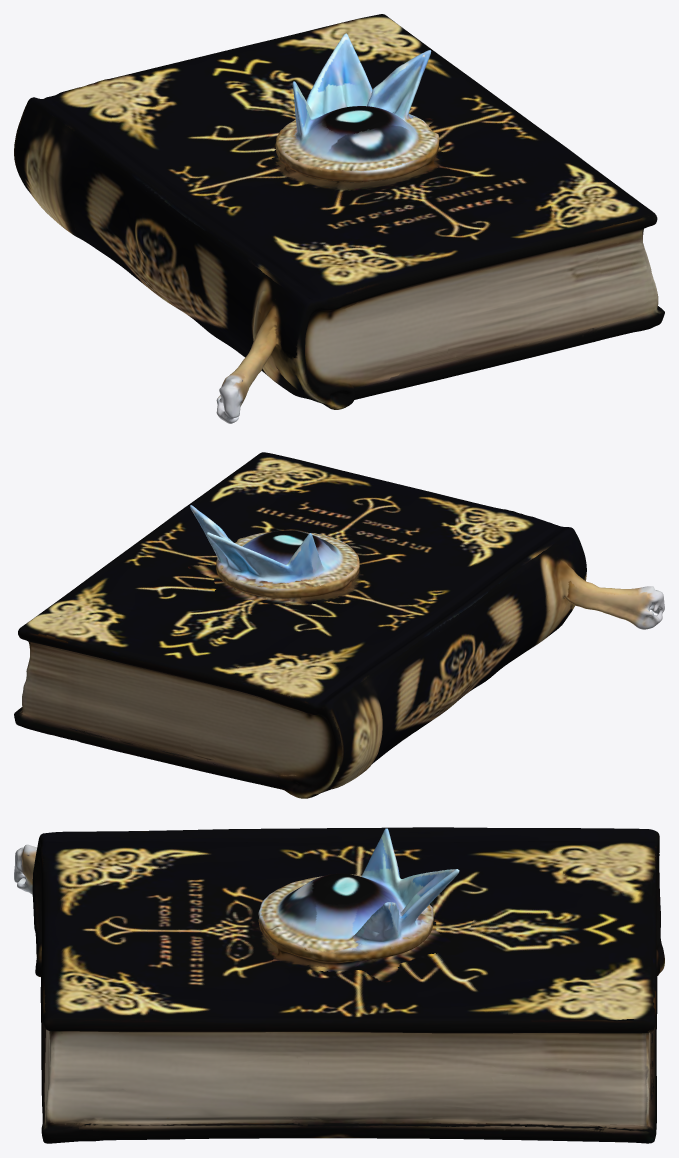
File: goodcase0303_87.glb
3 views of the same model, one above another, from view 1: azimuth 30°, elevation 25°; view 2: azimuth 150°, elevation 25°; view 3: azimuth 270°, elevation 25° (orthographic). The views are drawn at different scales.
Visible parts, largest first — view 1: object.001; view 2: object.001; view 3: object.001.
Part boxes in pixels (<box>): object.001: <box>14,14,664,423</box>; object.001: <box>14,452,664,798</box>; object.001: <box>14,827,664,1143</box>.
Bounding box in the file's own units: 0.7592 × 0.306 × 0.8547.
Materials: 1 (1 with a texture image).
